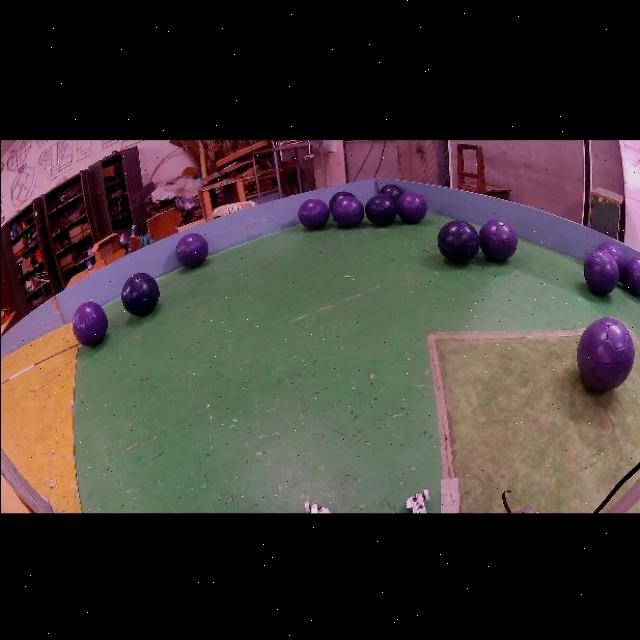B: (437, 220, 480, 263), (120, 272, 159, 316), (364, 194, 397, 225), (328, 190, 355, 210), (378, 183, 403, 200)
P: (577, 317, 634, 391), (478, 218, 517, 261), (584, 250, 619, 295), (72, 302, 107, 346), (597, 241, 625, 283), (175, 233, 208, 268), (330, 195, 364, 226), (298, 198, 329, 229), (397, 191, 426, 222), (625, 256, 640, 295)
